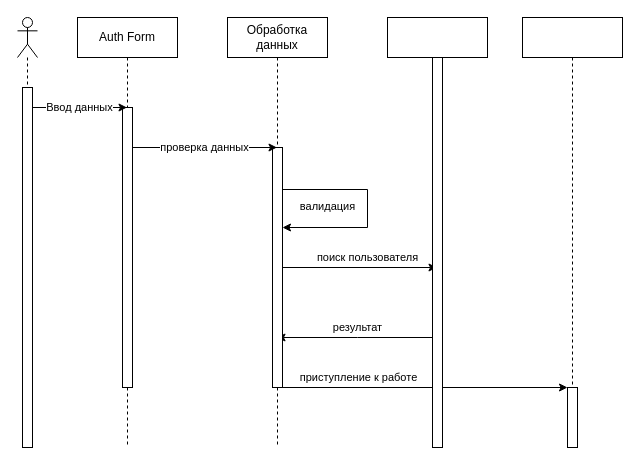
The diagram is 640 pixels wide and 465 high, and some of its shapes have lost their labels. Each missing label, with the box of its shape:
Активность пользователя: (522, 16, 622, 448)
База данных: (386, 16, 488, 448)
